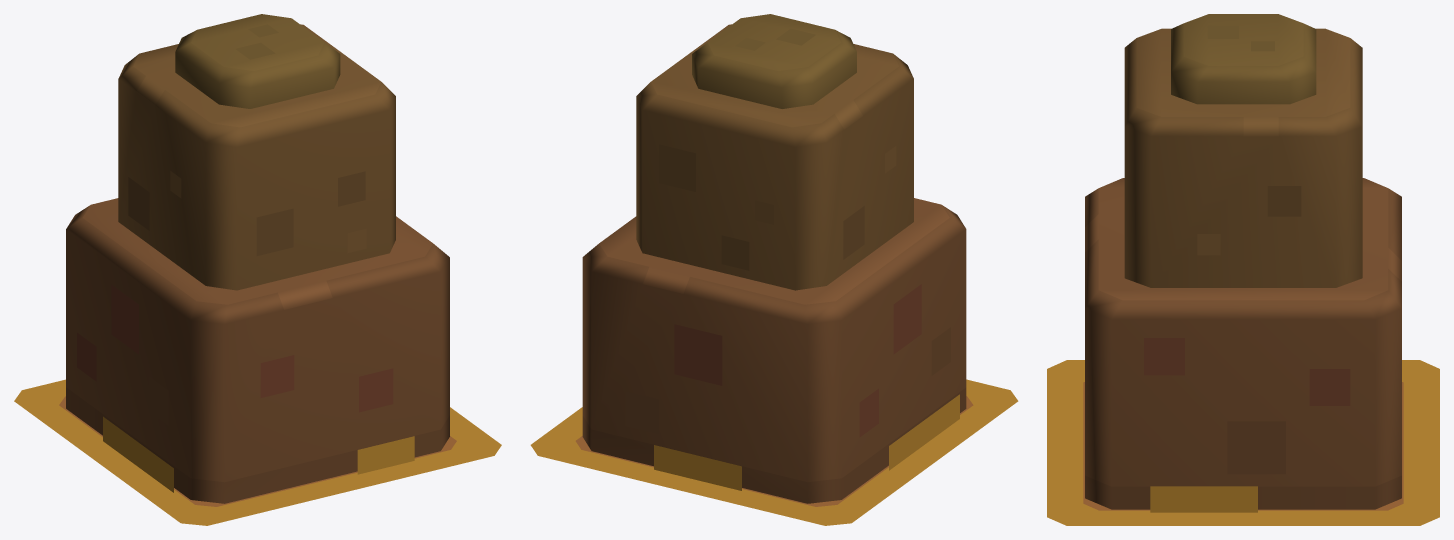
Rendered from B_mountain1_rock01.fbx.
3 renders of one model, left to right at view 1: azimuth 30°, elevation 25°; view 2: azimuth 150°, elevation 25°; view 3: azimuth 270°, elevation 25°, orthographic. The views are drawn at different scales.
Parts seen in each view (by area): view 1: model 1, model; view 2: model 1, model; view 3: model 1, model.
Part boxes in pixels (bbox=[...]): model 1: bbox=[14, 14, 501, 525]; model: bbox=[14, 379, 501, 525]; model 1: bbox=[531, 14, 1017, 525]; model: bbox=[531, 379, 1017, 525]; model 1: bbox=[1047, 14, 1439, 525]; model: bbox=[1047, 360, 1439, 525].
Bounding box in the file's own units: 3.39 × 3.87 × 3.39.
